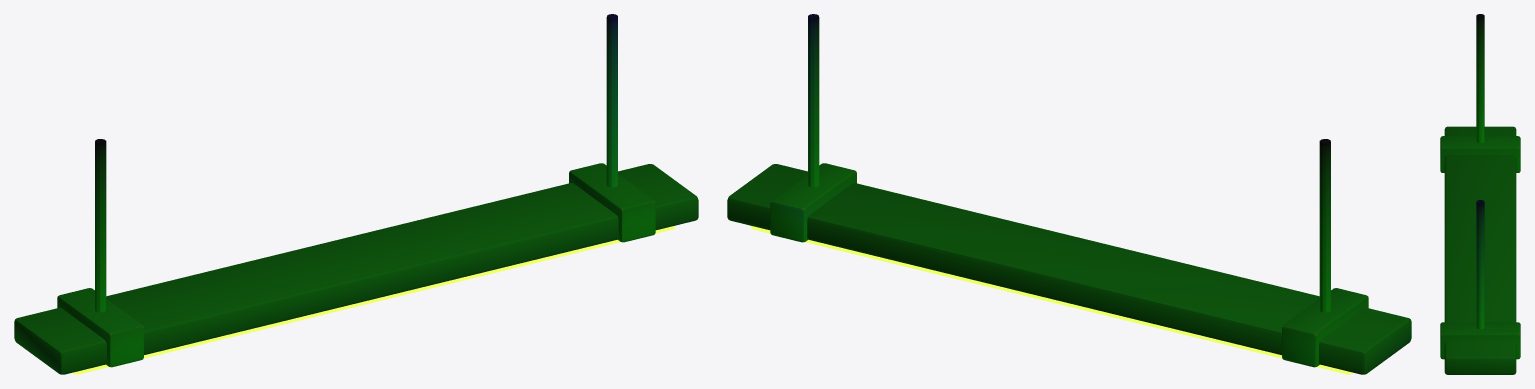
The model's file is hero_ceiling_truss_lamp.glb.
The picture shows the model from 3 angles, left to right: view 1: azimuth 30°, elevation 25°; view 2: azimuth 150°, elevation 25°; view 3: azimuth 270°, elevation 25°; orthographic projection. The views are drawn at different scales.
Visible parts, largest first — view 1: HeroCeilingTrussLamp; view 2: HeroCeilingTrussLamp; view 3: HeroCeilingTrussLamp.
Part boxes in pixels (x1,y1,x2,y2): HeroCeilingTrussLamp: [14, 14, 698, 374]; HeroCeilingTrussLamp: [727, 14, 1411, 374]; HeroCeilingTrussLamp: [1440, 14, 1520, 374].
Bounding box in the file's own units: 6.5 × 2.04 × 0.95.
